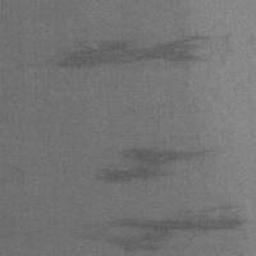Water spot: (70, 204, 248, 253), (56, 31, 232, 70), (93, 147, 215, 183)
